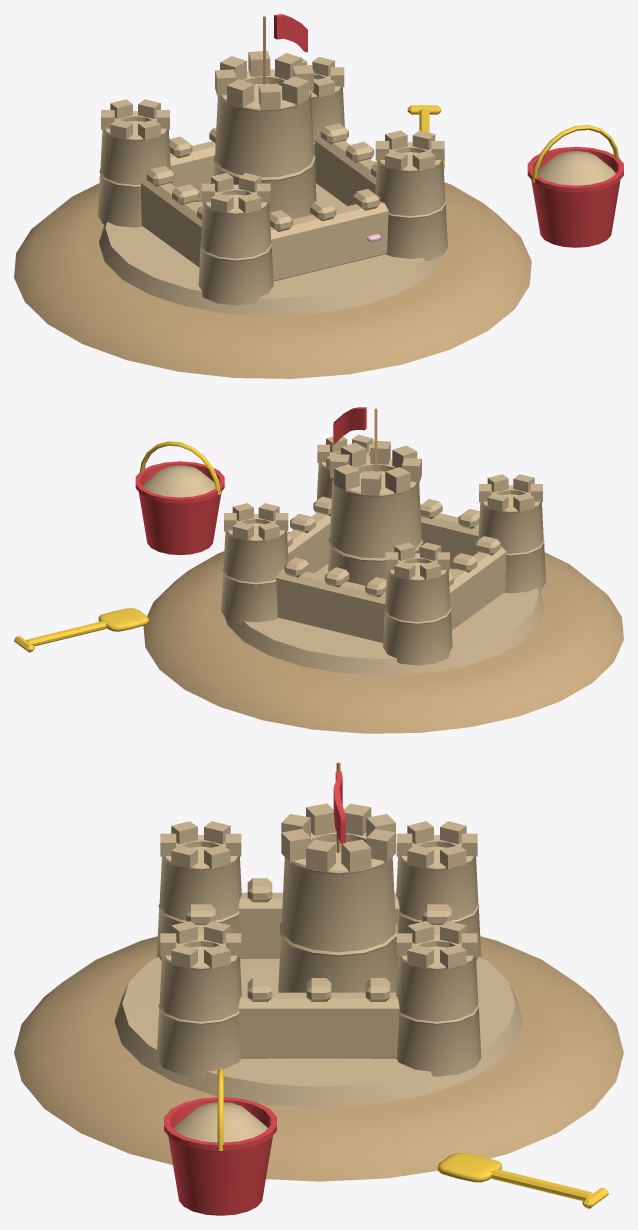
File: castelo_areia_pequeno.glb
The picture shows the model from 3 angles, top to bottom: view 1: azimuth 30°, elevation 25°; view 2: azimuth 150°, elevation 25°; view 3: azimuth 270°, elevation 25°; orthographic projection. The views are drawn at different scales.
Parts seen in each view (by area): view 1: castelo_areia_pequeno; view 2: castelo_areia_pequeno; view 3: castelo_areia_pequeno.
Part boxes in pixels (box(x1,y1,x2,y2)): castelo_areia_pequeno: box(14, 14, 623, 378); castelo_areia_pequeno: box(14, 407, 623, 733); castelo_areia_pequeno: box(14, 762, 623, 1215).
Size of the model in its own units: 1.46 by 0.65 by 1.24.
Materials: 1 (1 with a texture image).
